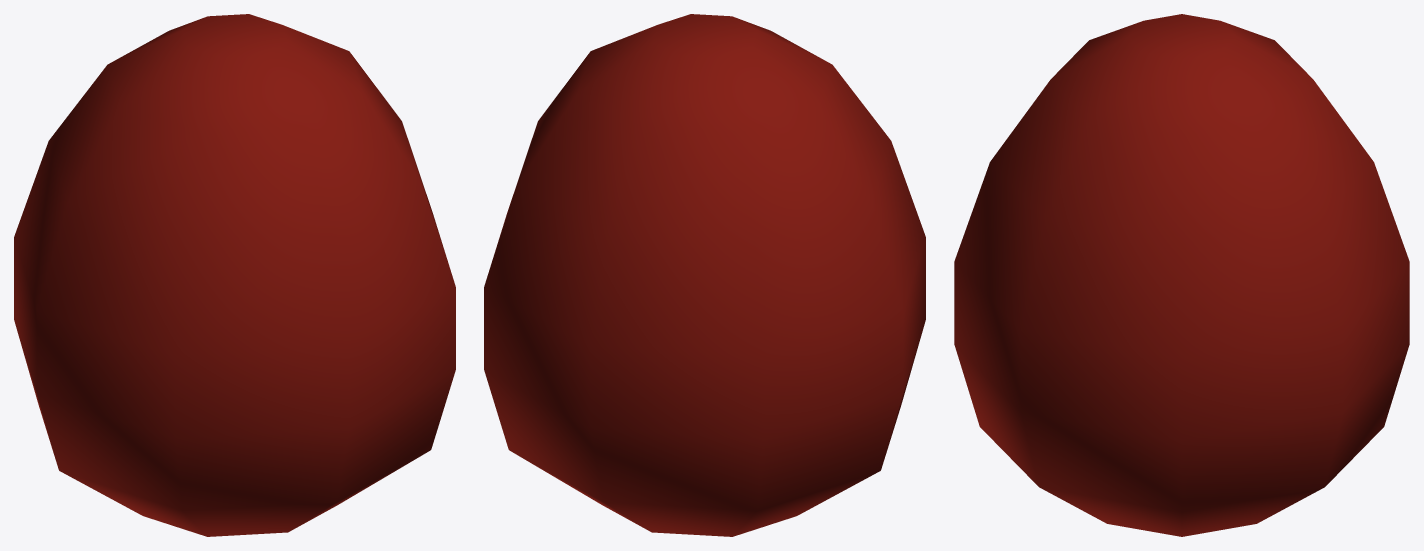
The model's file is Jajko.fbx.
3 renders of one model, left to right at view 1: azimuth 30°, elevation 25°; view 2: azimuth 150°, elevation 25°; view 3: azimuth 270°, elevation 25°, orthographic.
Visible parts, largest first — view 1: Jajko; view 2: Jajko; view 3: Jajko.
Part boxes in pixels (x1,y1,x2,y2): Jajko: (14,14,455,536); Jajko: (484,14,925,536); Jajko: (954,14,1409,536).
Bounding box in the file's own units: 2.32 × 2.56 × 2.32.
